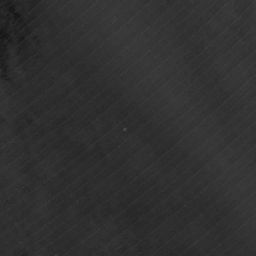Target: (121, 126, 128, 132)
